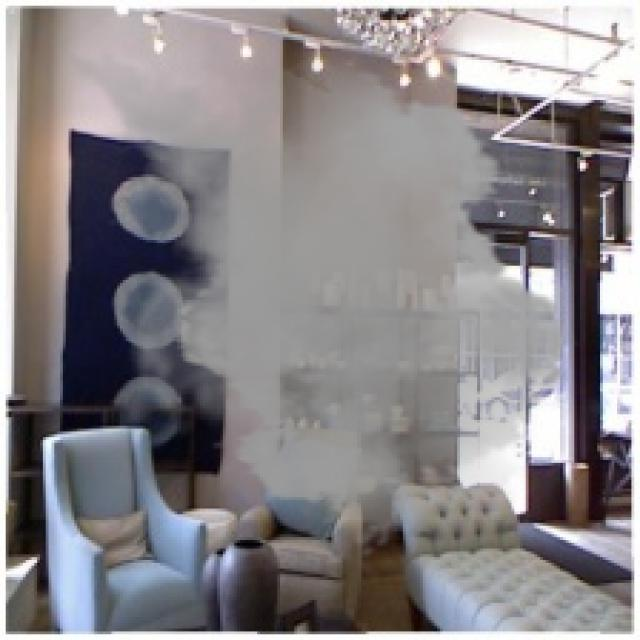smoke: (37, 40, 580, 560)
